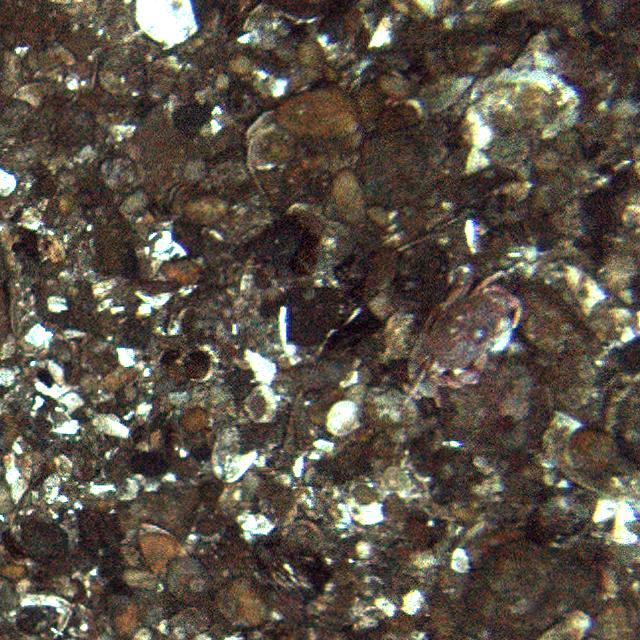crab: (400, 266, 526, 398)
